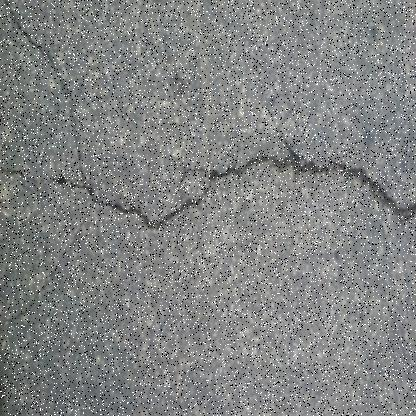Cracks: (0, 134, 415, 236), (0, 0, 92, 198), (0, 191, 97, 334)
